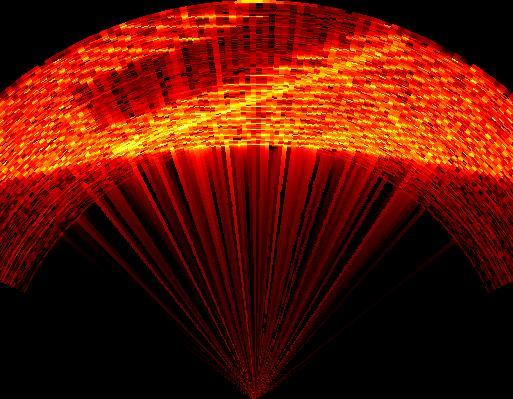pipe: (68, 6, 405, 156)
